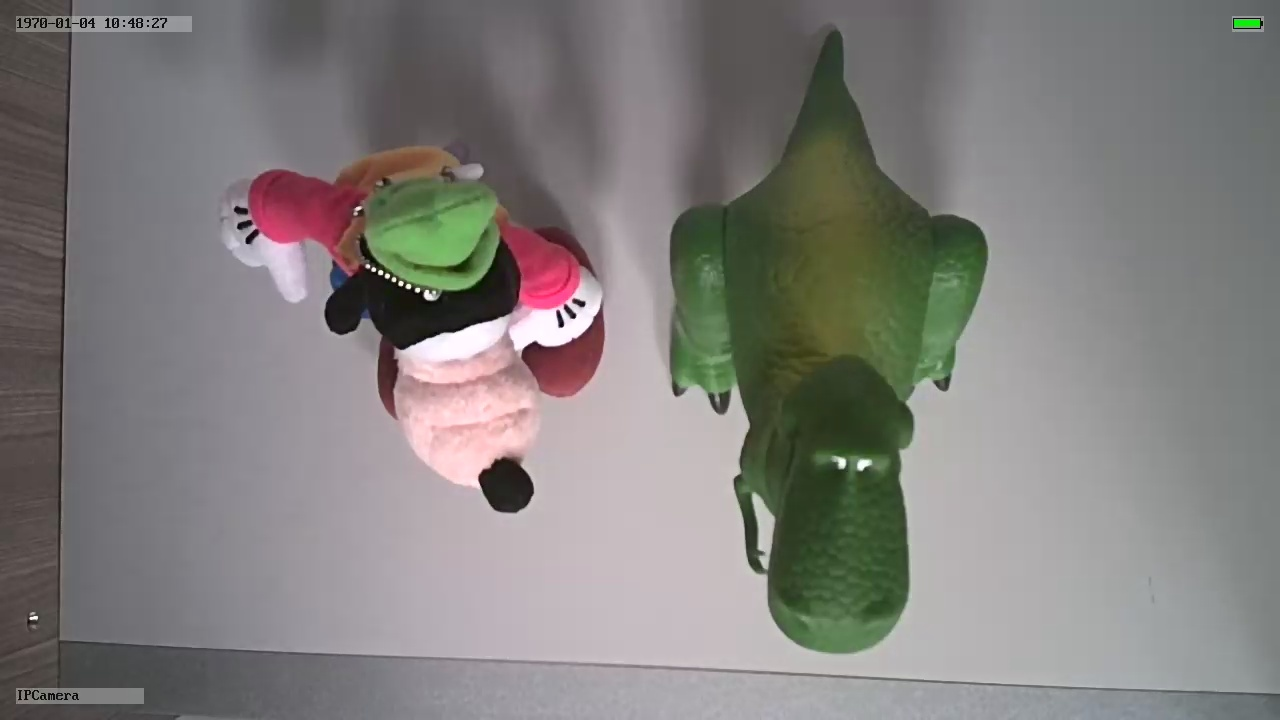goofy: (211, 139, 613, 527)
rex: (669, 119, 991, 658)
